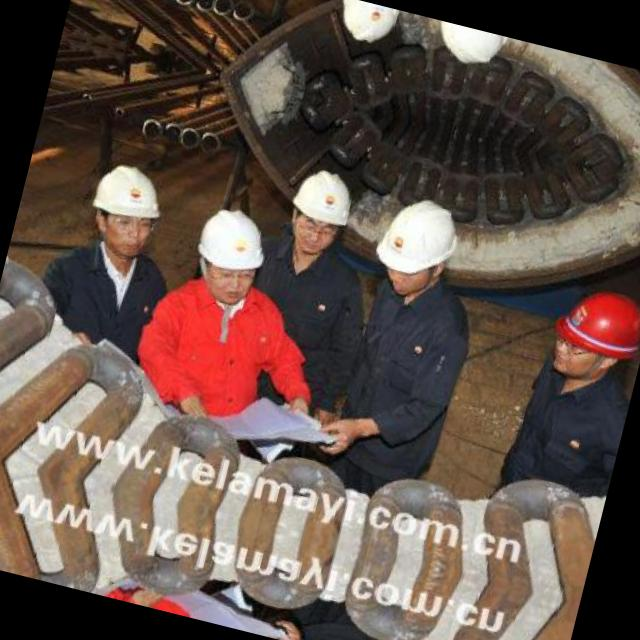helmet: (366, 188, 466, 306), (543, 275, 640, 392), (78, 152, 174, 261), (179, 204, 272, 306), (277, 158, 363, 266), (422, 18, 510, 75), (329, 0, 404, 56)
